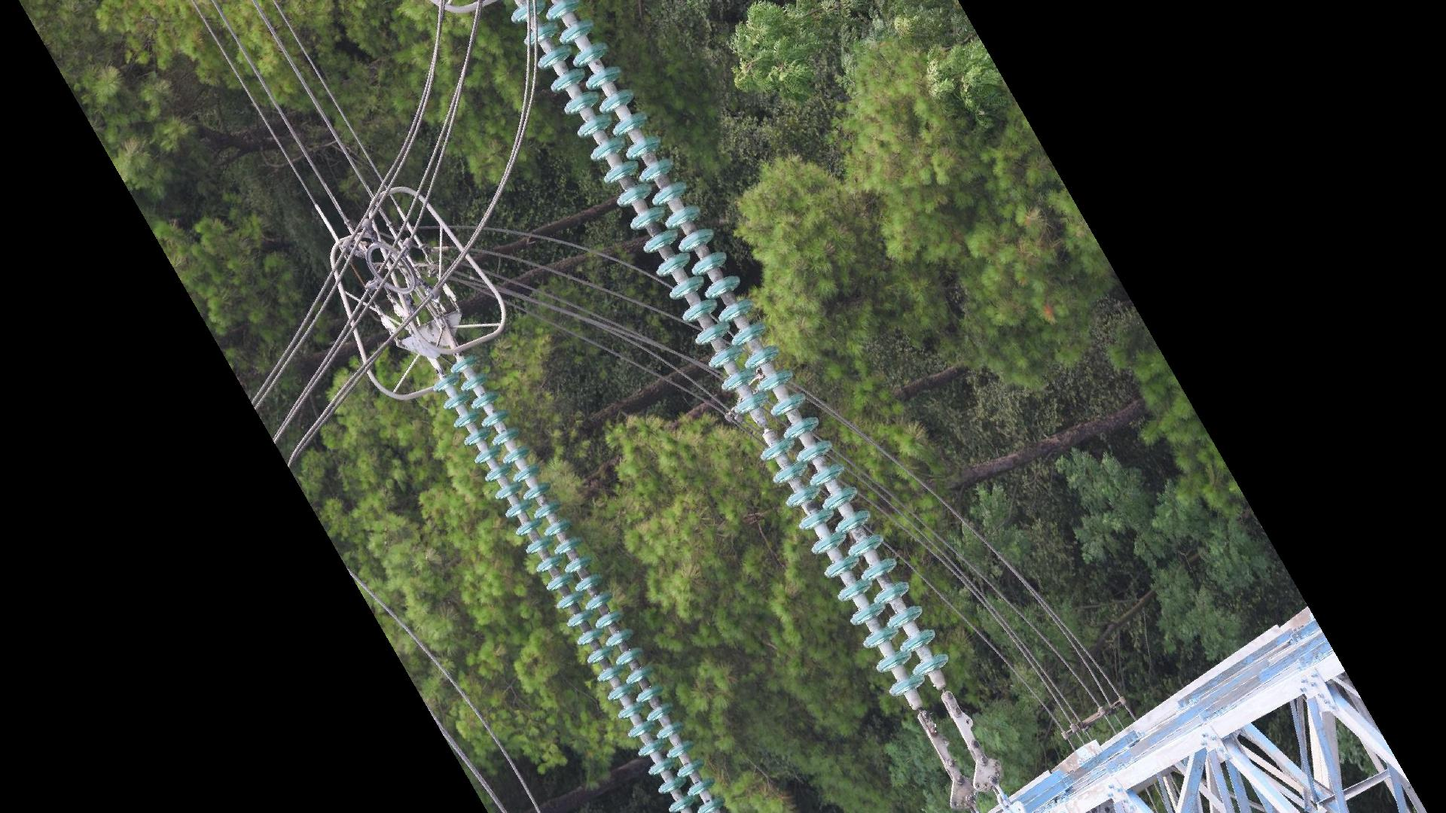insulator: (507, 1, 951, 702), (428, 351, 728, 813)
insulator_stringdrop: (732, 388, 798, 464)
